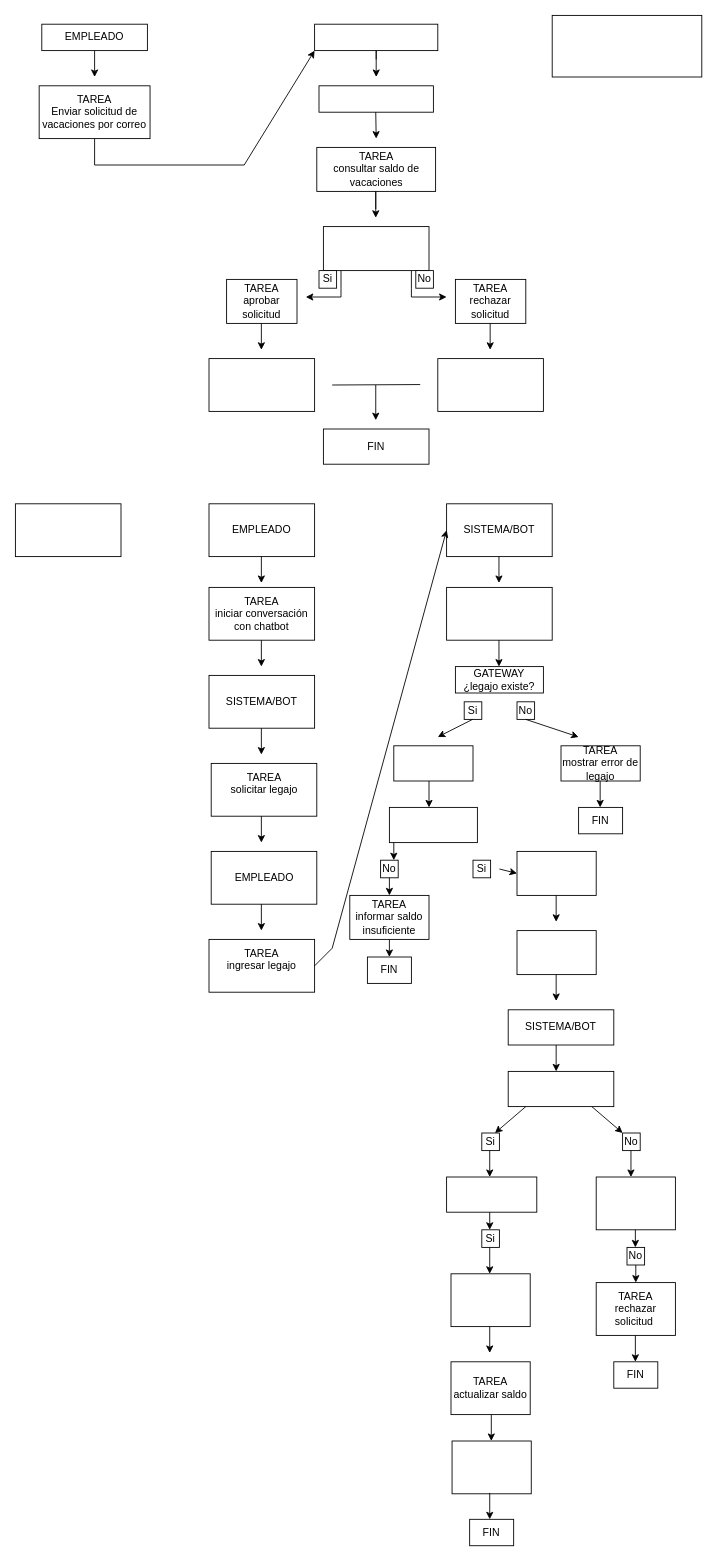
The diagram is 717 pixels wide and 1561 high, and some of its shapes have lost their labels. The centre of each missing label's shape, as x and y in pixels:
"BPMN AS-IS" goes at point 626,46.
"BPMN TO-BE" goes at point 68,530.
"GATEWAY ¿cantidad valida?" goes at point 560,1089.
"GATEWAY ¿días solicitados < saldo?" goes at point 491,1194.
"GATEWAY ¿posee dias disponibles?" goes at point 376,248.
"GATEWAY ¿tiene dias disponibles?" goes at point 433,825.
"RECURSOS HUMANOS" goes at point 376,37.
"TAREA consultar base de datos" goes at point 499,613.
"TAREA consultar saldo" goes at point 433,763.
"TAREA enviar confirmacion" goes at point 491,1467.
"TAREA ingresar cantidad de dias" goes at point 556,952.
"TAREA mostrar error y volver a pedir cantidad" goes at point 635,1203.
"TAREA notificar aprobacion" goes at point 261,384.
"TAREA notificar rechazo" goes at point 490,384.
"TAREA recibir solicitud" goes at point 375,98.
"TAREA registrar solicitud" goes at point 490,1300.
"TAREA solicitar cantidad de dias" goes at point 556,873.
